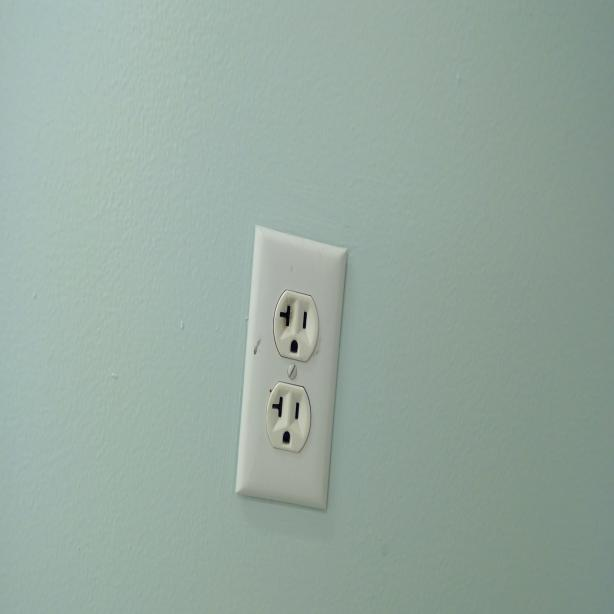typeb: (272, 286, 320, 360), (266, 379, 310, 452)
